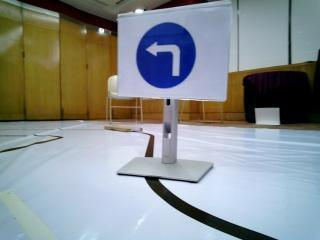left: (122, 18, 220, 103)
